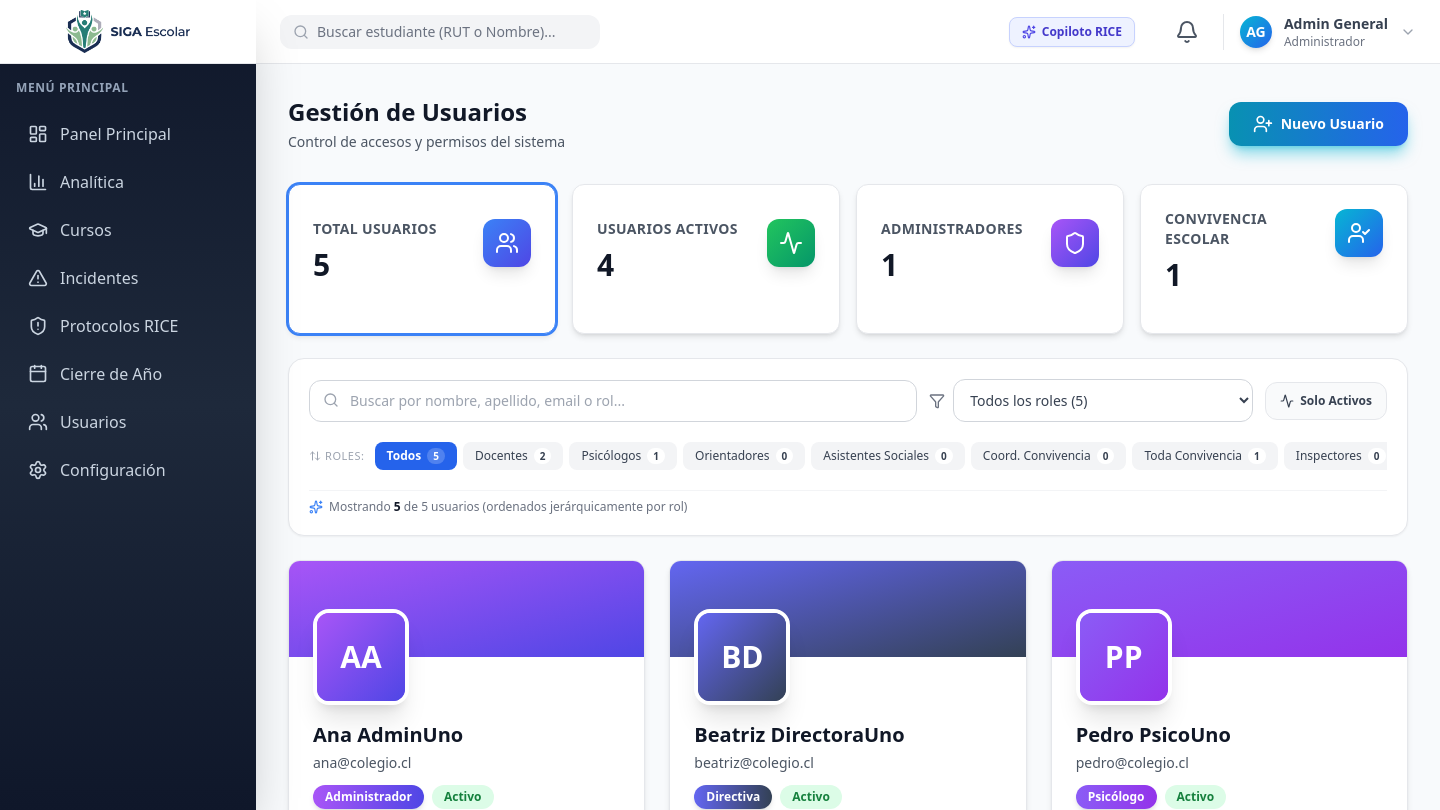
Test case: UsuariosPage - Ordenamiento y Filtros › muestra estado vacío amigable cuando ningún usuario coincide con el filtro
This screenshot has width=1440, height=810.
Expected: the heading "Ana AdminUno" is shown, [313, 721, 463, 748]
In the field with placeholder "Buscar por nombre, apellido, email o rol...": (613, 400) [309, 380, 917, 422], type "nombre_inexistente_xyz"
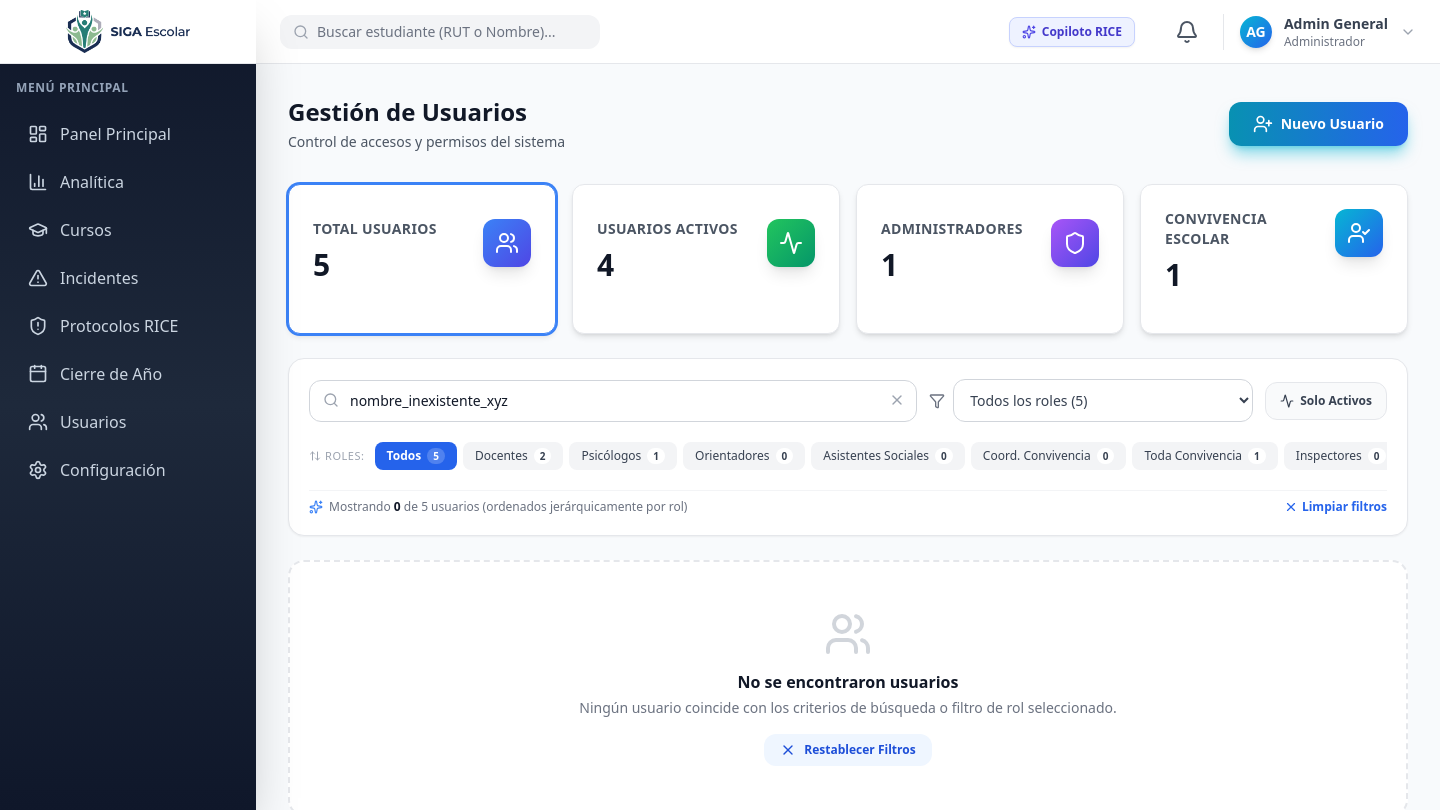
Expected: the heading "No se encontraron usuarios" is shown, [738, 671, 958, 693]
# Clic en restablecer filtros
Click the button "Restablecer Filtros": (848, 750) [764, 734, 932, 766]
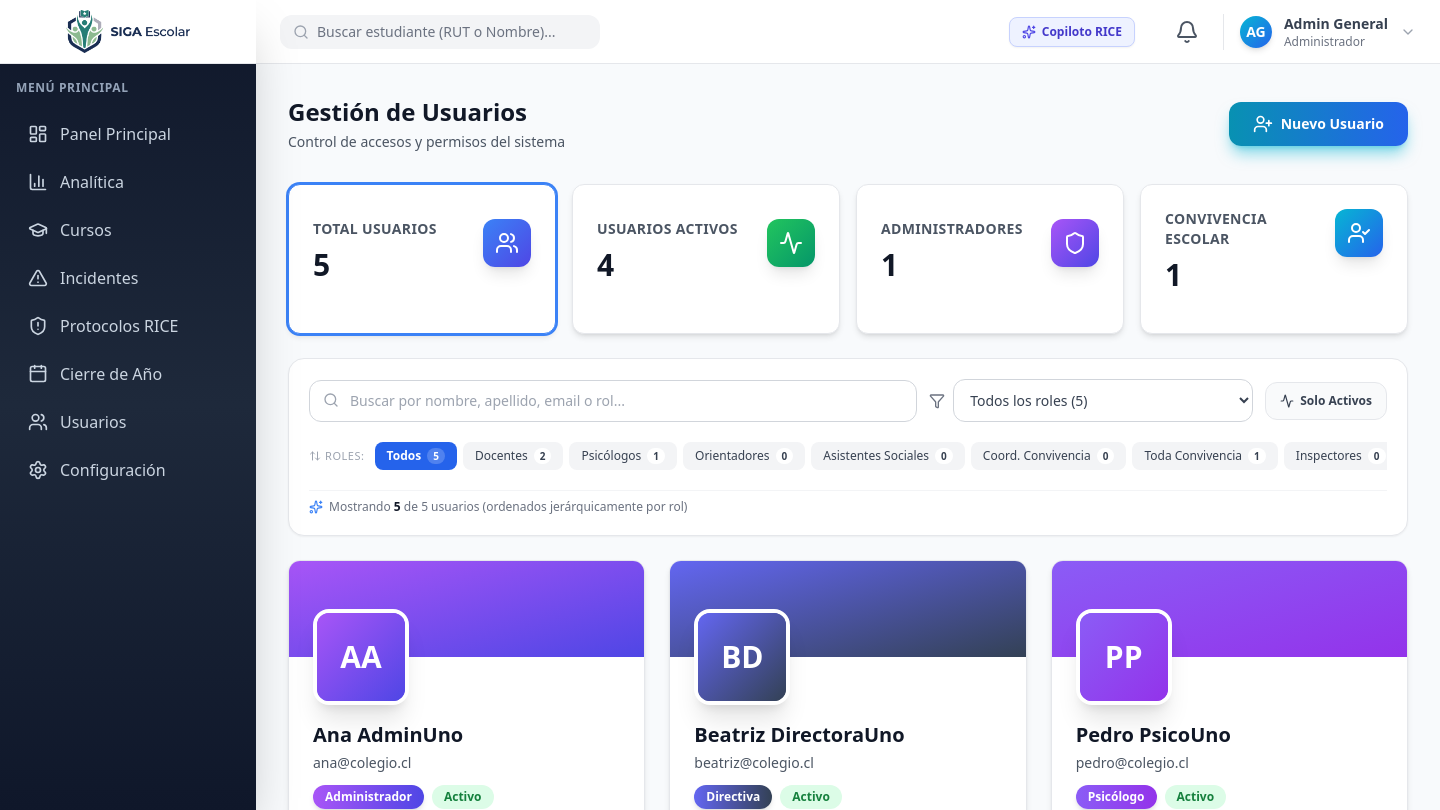
Expected: the heading "Ana AdminUno" is shown, [313, 721, 463, 748]
